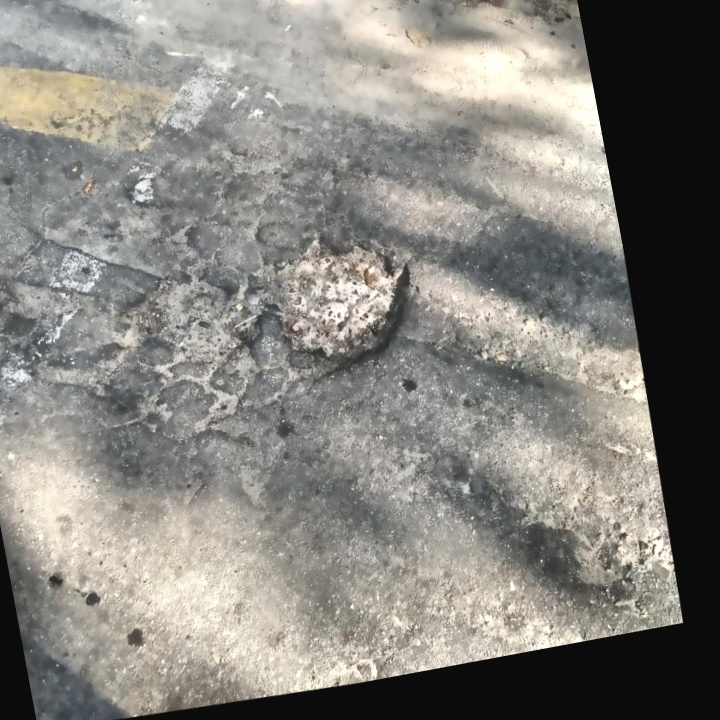pothole: (253, 217, 432, 387), (110, 256, 274, 386)
